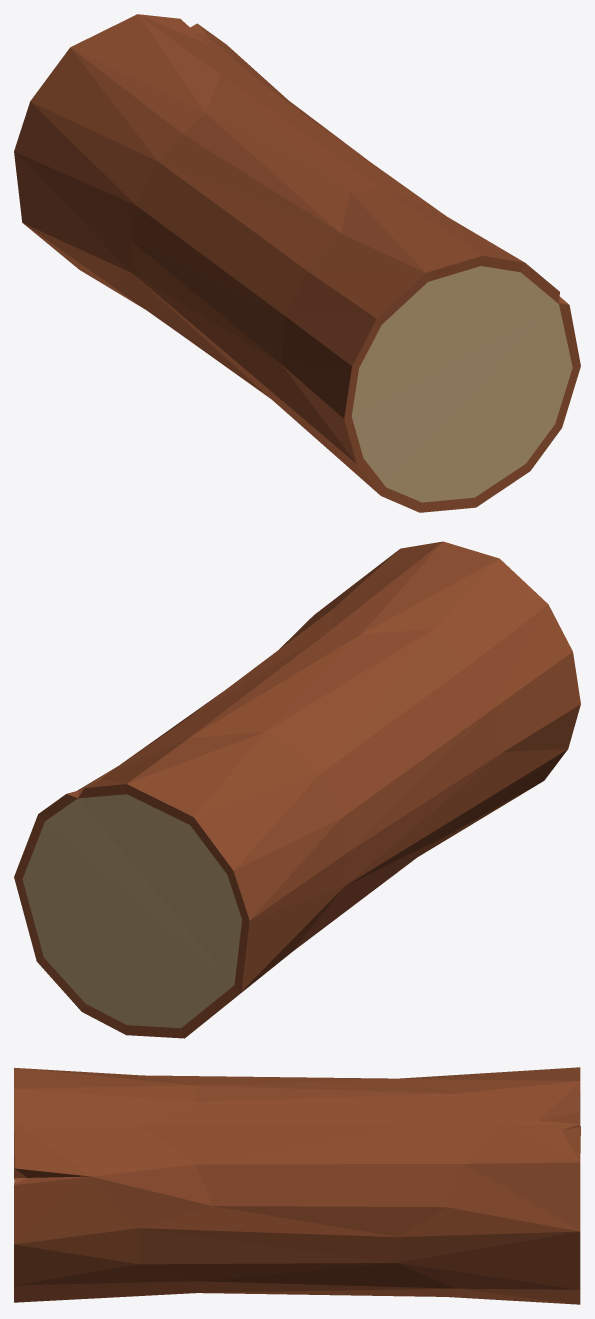
The model's file is wood1.fbx.
3 views of the same model, one above another, from view 1: azimuth 30°, elevation 25°; view 2: azimuth 150°, elevation 25°; view 3: azimuth 270°, elevation 25° (orthographic). The views are drawn at different scales.
Parts seen in each view (by area): view 1: Log; view 2: Log; view 3: Log.
Boxes of the visible parts, x1,y1,x2,y2 form: Log: (14, 14, 580, 512); Log: (14, 541, 580, 1038); Log: (14, 1067, 580, 1304).
Size of the model in its own units: 80.03 by 81.2 by 193.
